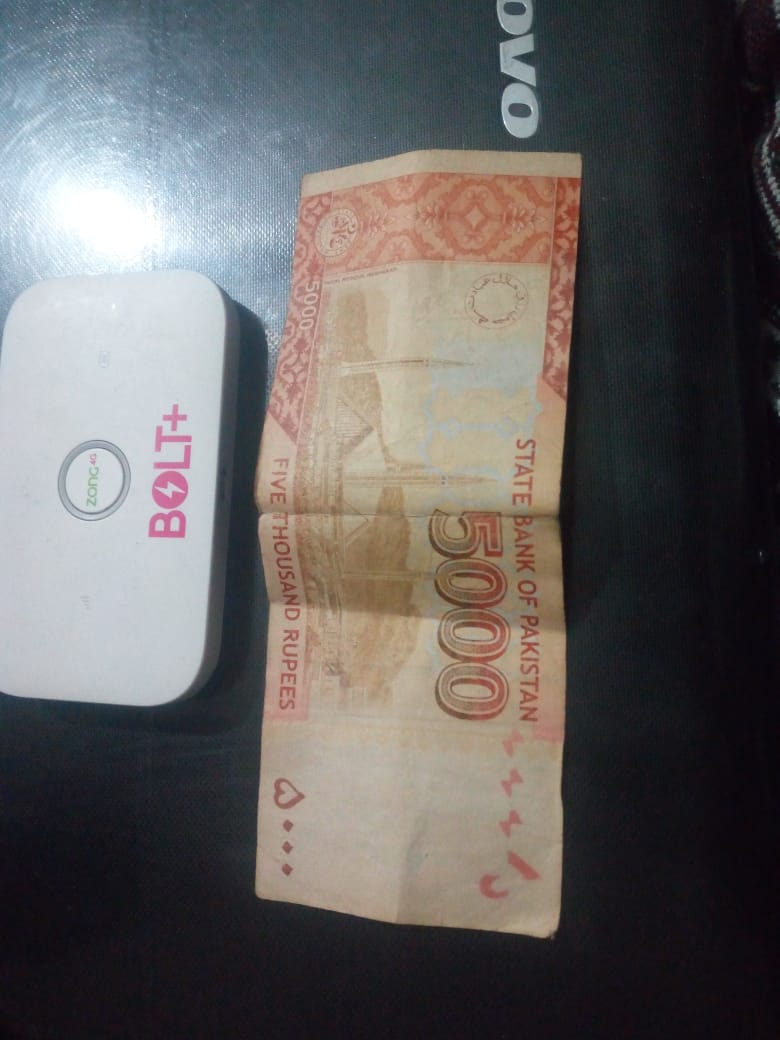5000 rupee: (264, 164, 598, 971)
